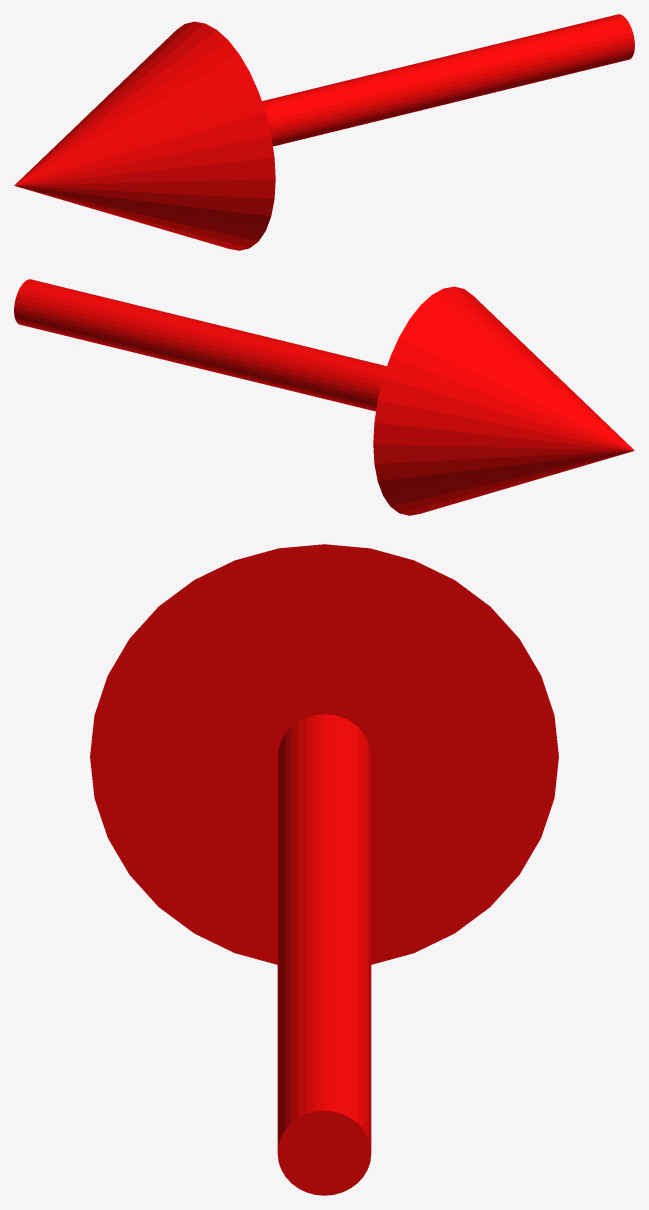
The model's file is arrow.gltf.
The picture shows the model from 3 angles, top to bottom: view 1: azimuth 30°, elevation 25°; view 2: azimuth 150°, elevation 25°; view 3: azimuth 270°, elevation 25°; orthographic projection. The views are drawn at different scales.
Parts seen in each view (by area): view 1: Cone; view 2: Cone; view 3: Cone.
Part boxes in pixels (x1=…): Cone: x1=14, y1=14, x2=634, y2=250; Cone: x1=14, y1=279, x2=634, y2=515; Cone: x1=90, y1=544, x2=558, y2=1195.
Bounding box in the file's own units: 6 × 2 × 2.
